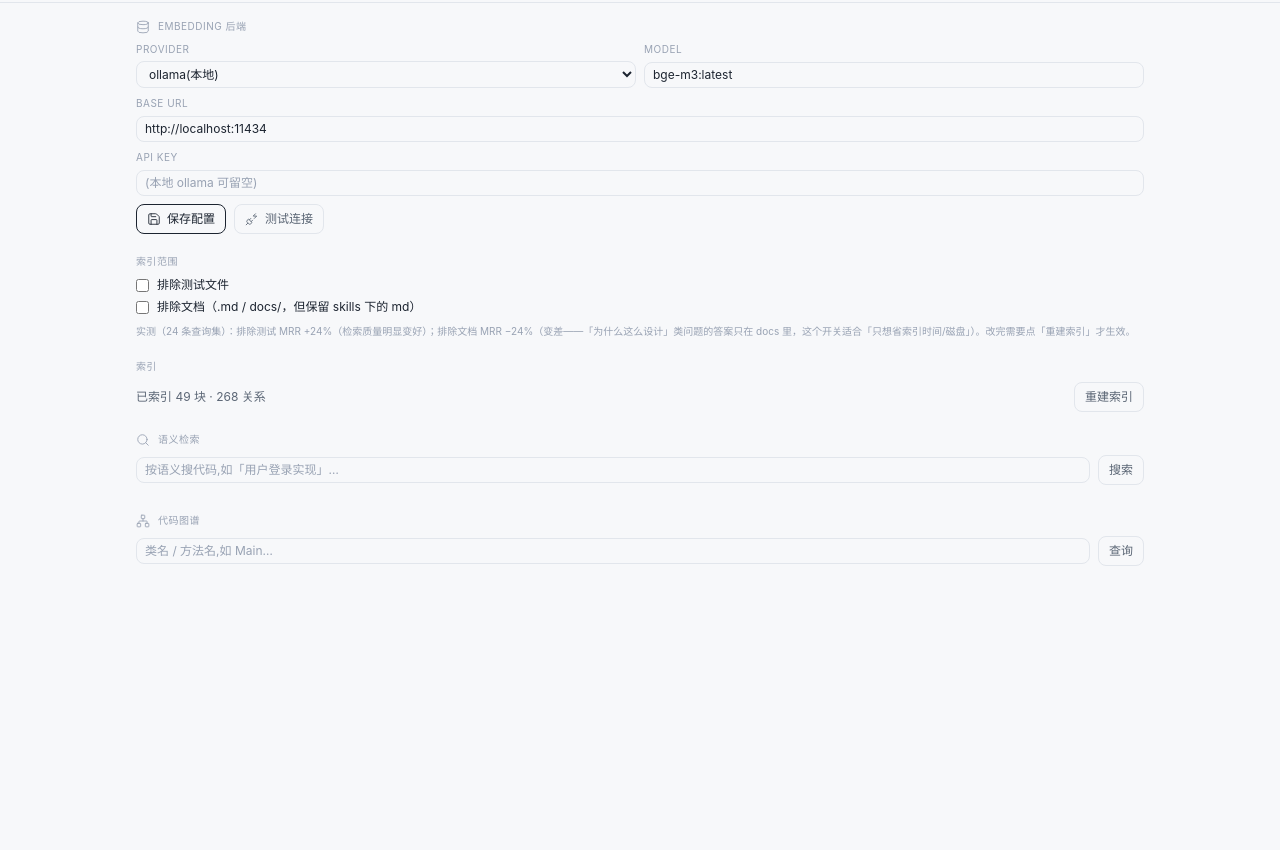
Scenario: RagPanel 一跳邻域图 › 文字列表仍然保留 —— 图看趋势,列表看准确的每一条
The width and height of the screenshot is (1280, 850).
Type "GLMClient" into the field with placeholder "类名 / 方法名,如 Main…" at coordinates (613, 551), box [136,538,1090,564]
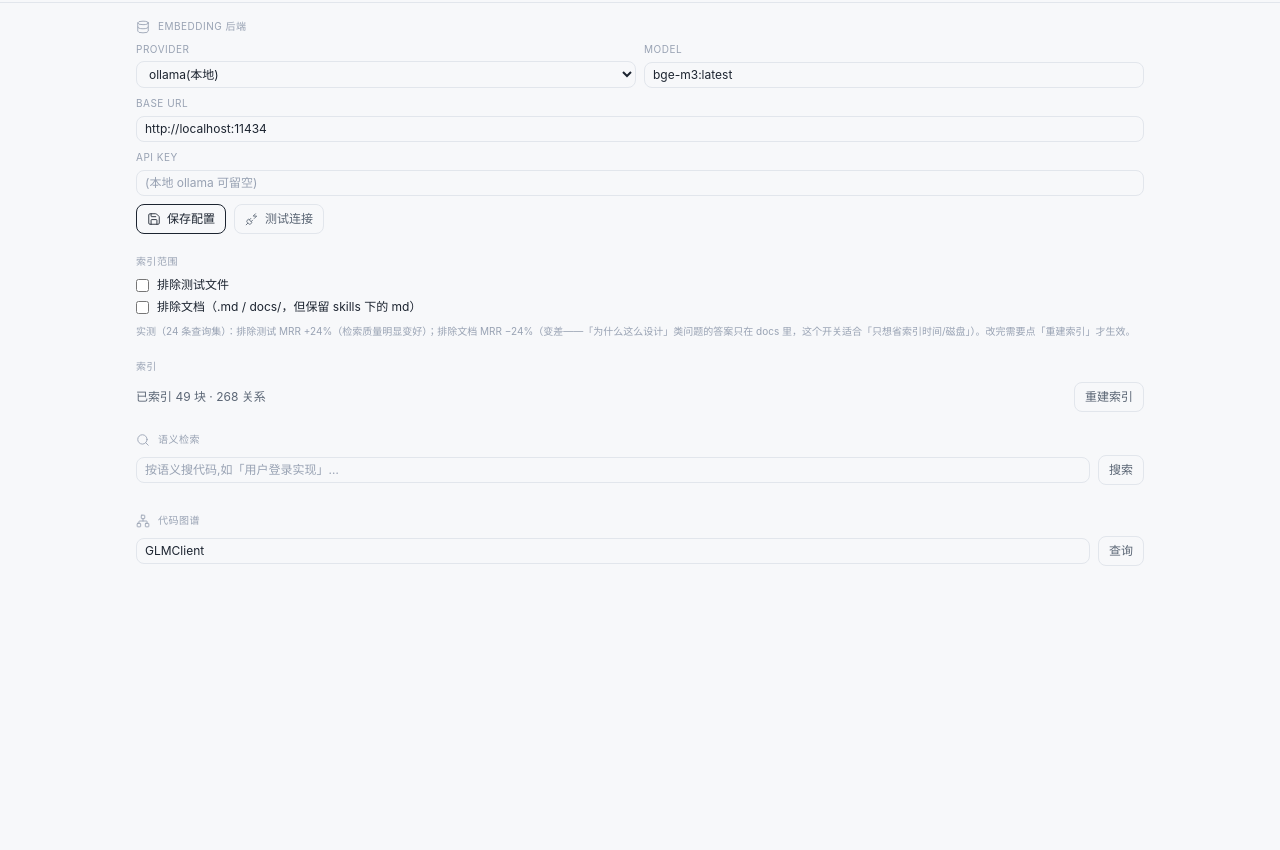
Click the button "查询" at coordinates (1121, 551), box [1098,536,1144,566]
(page scrolled)
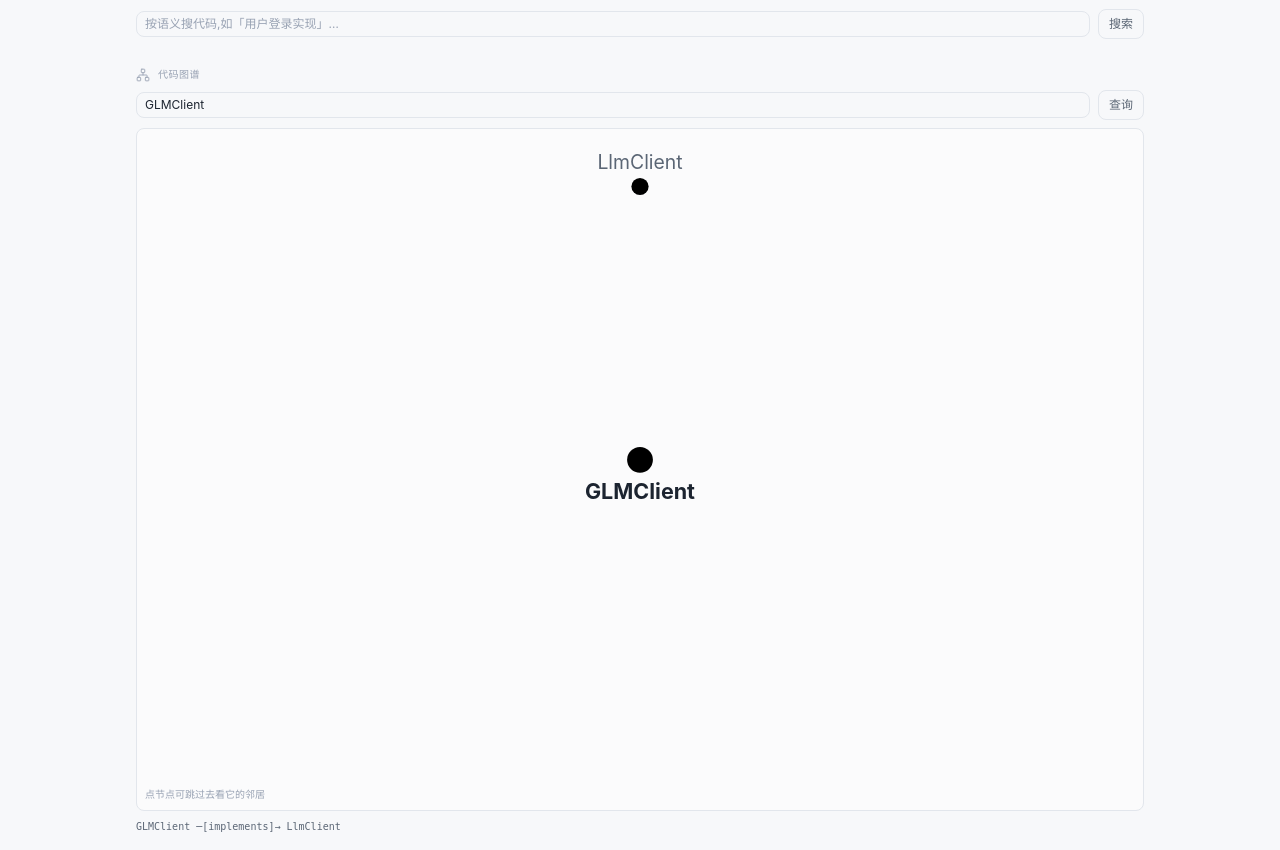
Expected: the element with test id "rag-ego-graph" is shown
Expected: the text "─[implements]→" is shown, [136,821,341,832]
